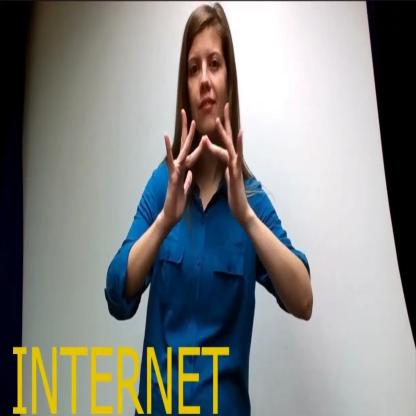Internet: (164, 100, 252, 227)
